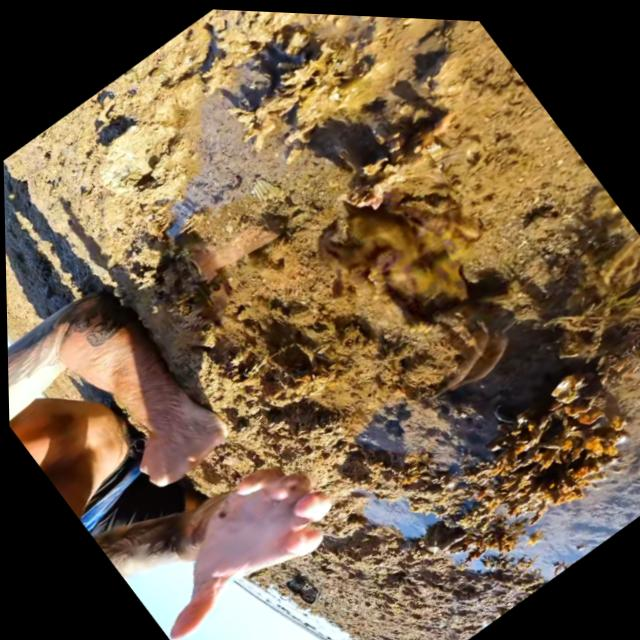blue_ringed_octopus: (294, 135, 515, 360)
